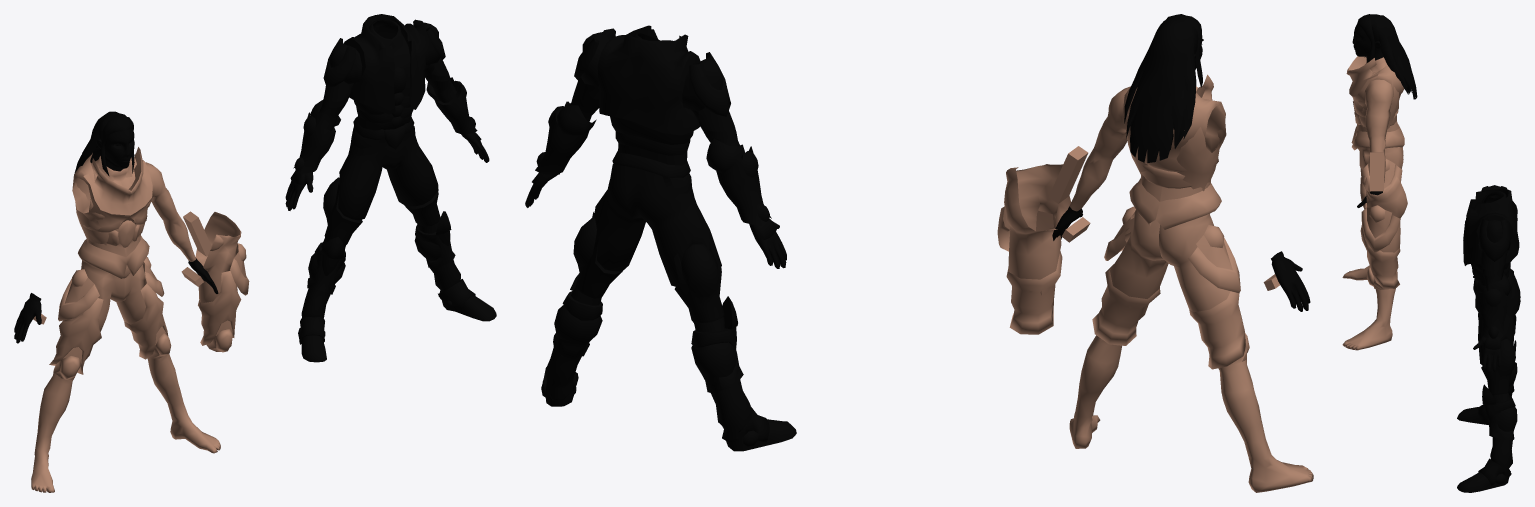
Rendered from ge_hom_armor05_wip.max.fobj.obj.
3 renders of one model, left to right at view 1: azimuth 30°, elevation 25°; view 2: azimuth 150°, elevation 25°; view 3: azimuth 270°, elevation 25°, orthographic. The views are drawn at different scales.
Visible parts, largest first — view 1: GE_HOM_armor05_pantabottes, GE_HOM_armor05_gilet, GE_HOM_armor05_armpad, GE_HOM_armor05_bottes, TR_HOM_underwear_pantabottes02, TR_HOM_underwear_pantabottes01, TR_HOM_underwear_bottes, Cylinder02, TR_HOM_underwear_pantabottes, Cylinder01, TR_HOM_underwear_armpad, MA_HOM_cheveux_long01 (+5 smaller); view 2: GE_HOM_armor05_pantabottes, GE_HOM_armor05_armpad, GE_HOM_armor05_gilet, GE_HOM_armor05_bottes, TR_HOM_underwear_pantabottes02, MA_HOM_cheveux_long01, TR_HOM_underwear_pantabottes01, TR_HOM_underwear_bottes, TR_HOM_underwear_pantabottes, Cylinder02, TR_HOM_underwear_armpad, TR_HOM_underwear_gilet01 (+4 smaller); view 3: TR_HOM_underwear_pantabottes02, GE_HOM_armor05_bottes, GE_HOM_armor05_armpad, GE_HOM_armor05_gilet, GE_HOM_armor05_pantabottes, Cylinder01, MA_HOM_cheveux_long01, TR_HOM_underwear_armpad, TR_HOM_underwear_bottes, TR_HOM_underwear_pantabottes, GE_HOM_armor05_hand, MA_HOM_visage (+3 smaller).
Part boxes in pixels (x1,y1,x2,y2): GE_HOM_armor05_pantabottes: (323, 116, 440, 246); GE_HOM_armor05_gilet: (344, 14, 426, 130); GE_HOM_armor05_armpad: (293, 19, 477, 173); GE_HOM_armor05_bottes: (298, 211, 496, 362); TR_HOM_underwear_pantabottes02: (195, 212, 249, 352); TR_HOM_underwear_pantabottes01: (49, 260, 125, 379); TR_HOM_underwear_bottes: (31, 354, 220, 492); Cylinder02: (72, 153, 131, 278); TR_HOM_underwear_pantabottes: (116, 257, 171, 359); Cylinder01: (120, 147, 152, 275); TR_HOM_underwear_armpad: (145, 162, 195, 261); MA_HOM_cheveux_long01: (74, 111, 134, 176); GE_HOM_armor05_pantabottes: (573, 150, 724, 322); GE_HOM_armor05_armpad: (535, 28, 771, 225); GE_HOM_armor05_gilet: (597, 25, 700, 165); GE_HOM_armor05_bottes: (541, 274, 796, 451); TR_HOM_underwear_pantabottes02: (997, 164, 1071, 334); MA_HOM_cheveux_long01: (1124, 14, 1202, 162); TR_HOM_underwear_pantabottes01: (1159, 213, 1249, 369); TR_HOM_underwear_bottes: (1069, 335, 1313, 492); TR_HOM_underwear_pantabottes: (1092, 206, 1168, 345); Cylinder02: (1156, 74, 1226, 229); TR_HOM_underwear_armpad: (1069, 86, 1130, 211); TR_HOM_underwear_gilet01: (1176, 94, 1226, 191); TR_HOM_underwear_pantabottes02: (1360, 176, 1407, 289); GE_HOM_armor05_bottes: (1457, 362, 1517, 492); GE_HOM_armor05_armpad: (1478, 185, 1510, 338); GE_HOM_armor05_gilet: (1463, 188, 1519, 285); GE_HOM_armor05_pantabottes: (1473, 268, 1520, 395); Cylinder01: (1347, 57, 1404, 150); MA_HOM_cheveux_long01: (1357, 14, 1417, 99); TR_HOM_underwear_armpad: (1365, 79, 1393, 182); TR_HOM_underwear_bottes: (1342, 265, 1397, 350); TR_HOM_underwear_pantabottes: (1358, 147, 1403, 208); GE_HOM_armor05_hand: (1473, 276, 1501, 373); MA_HOM_visage: (1352, 24, 1383, 61).
Bounding box in the file's own units: 289 × 177 × 96.55.
